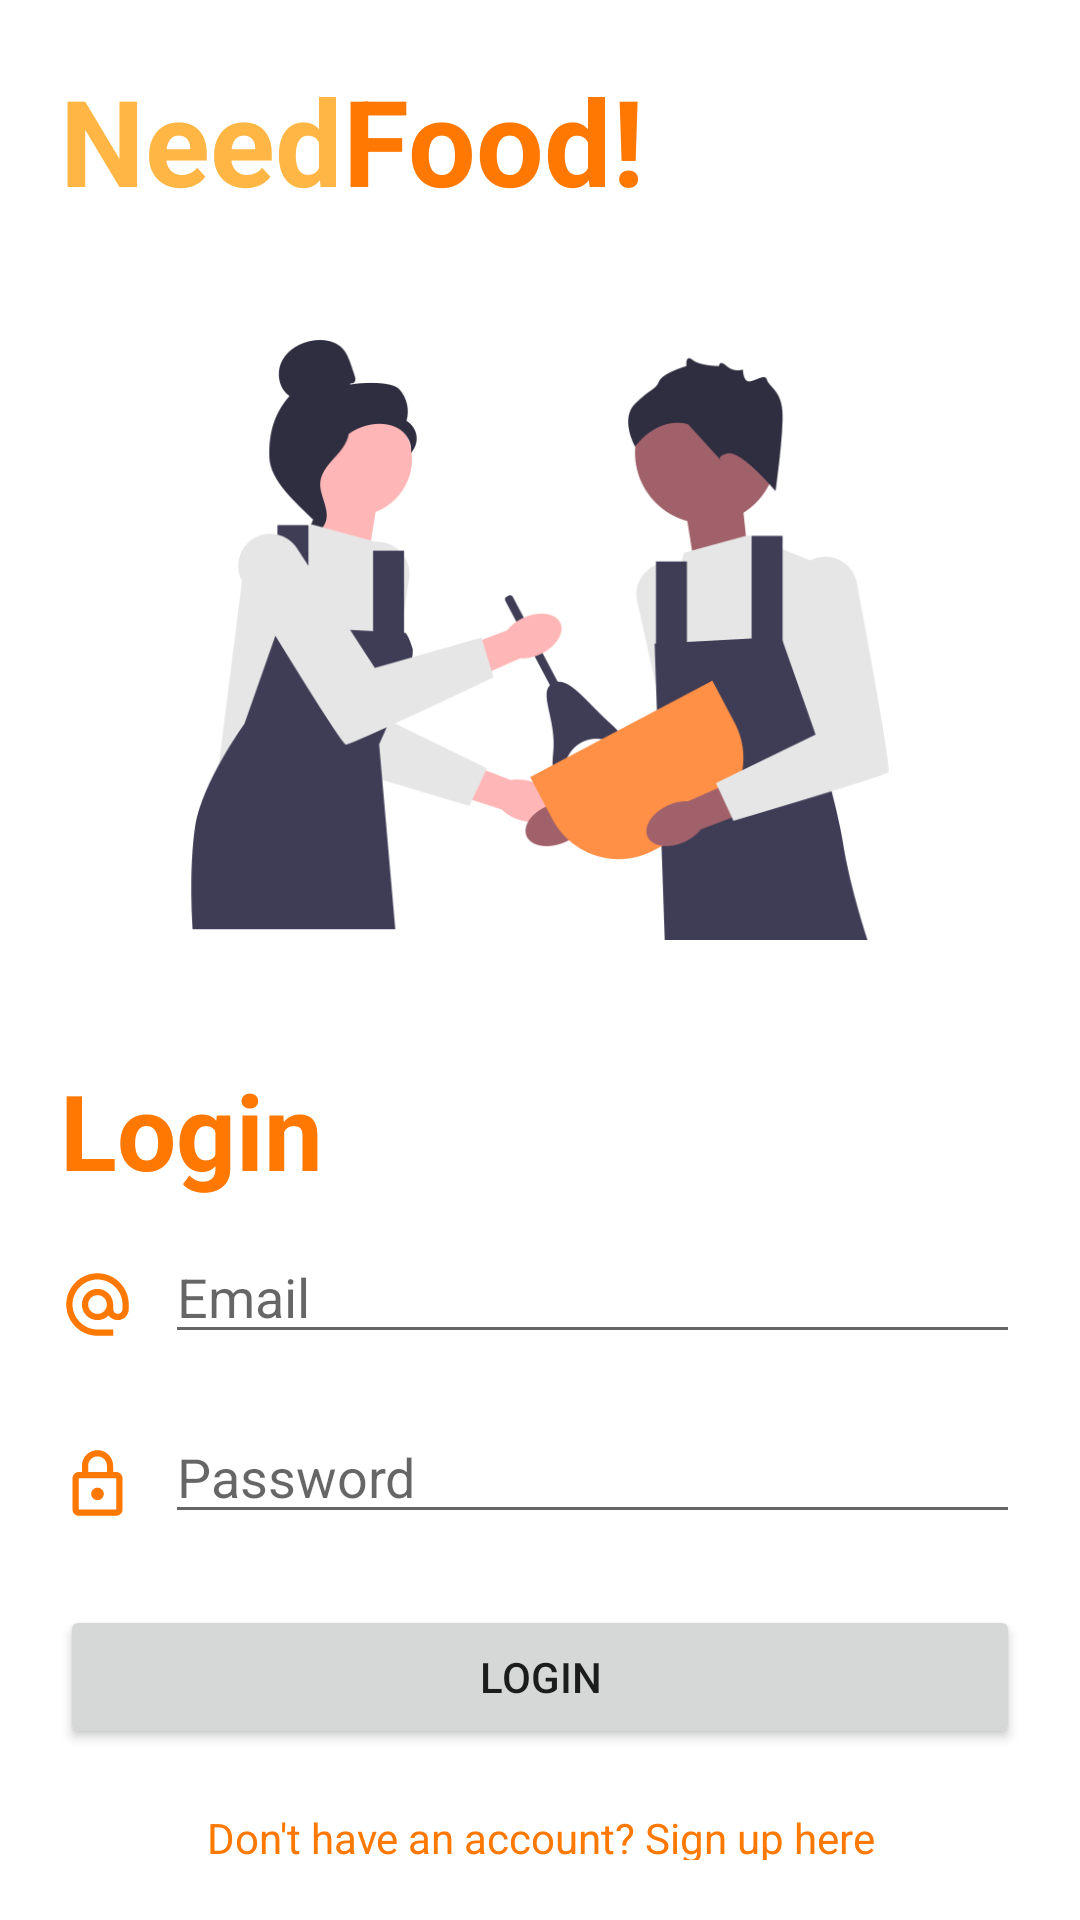

Where to tap for icons on this 1080 × 1920 app screen, as (x=x, y=y):
lock: (x=97, y=1483)
